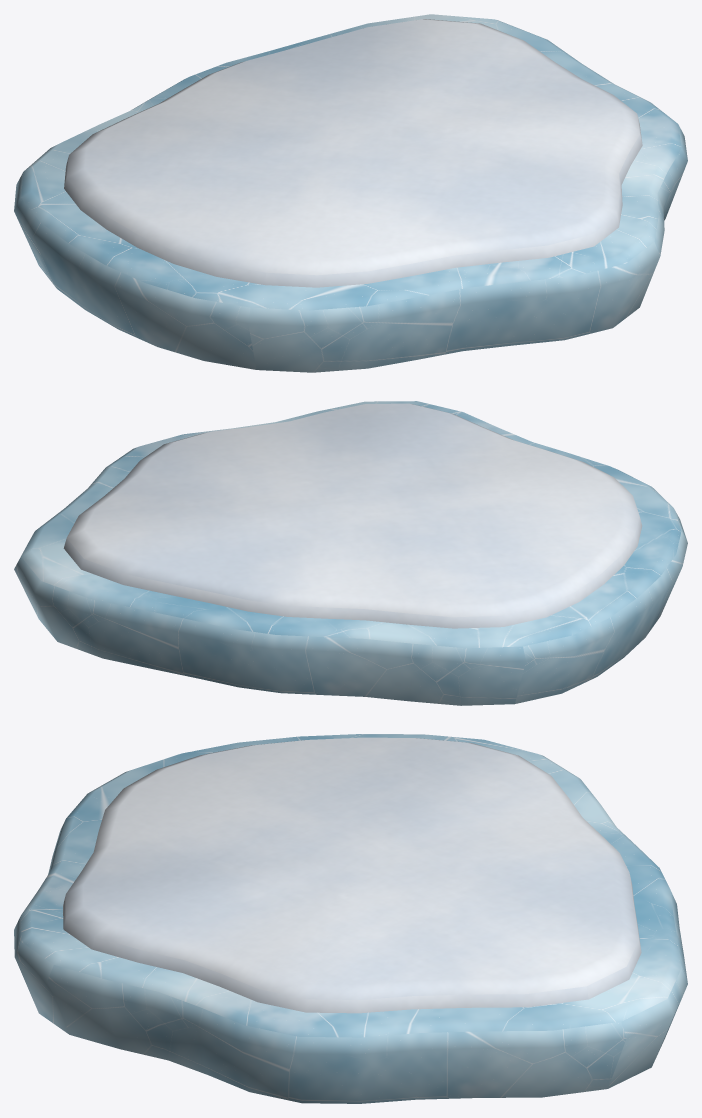
The model's file is SM_IceFloe_A.fbx.
3 renders of one model, top to bottom at view 1: azimuth 30°, elevation 25°; view 2: azimuth 150°, elevation 25°; view 3: azimuth 270°, elevation 25°, orthographic. The views are drawn at different scales.
Parts seen in each view (by area): view 1: SM_IceFloe_A; view 2: SM_IceFloe_A; view 3: SM_IceFloe_A.
Part boxes in pixels (x1,y1,x2,y2): SM_IceFloe_A: (14, 14, 687, 372); SM_IceFloe_A: (14, 401, 687, 705); SM_IceFloe_A: (14, 734, 687, 1103).
Size of what is drawn, in the model's own units: 306 by 331 by 54.
